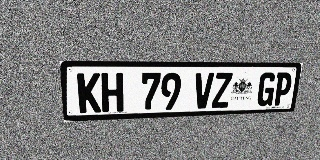7: (140, 73, 161, 111)
9: (160, 73, 182, 110)
G: (256, 72, 277, 106)
H: (101, 73, 123, 112)
K: (77, 73, 101, 113)
P: (272, 72, 293, 106)
V: (193, 73, 214, 109)
Z: (211, 73, 233, 108)
